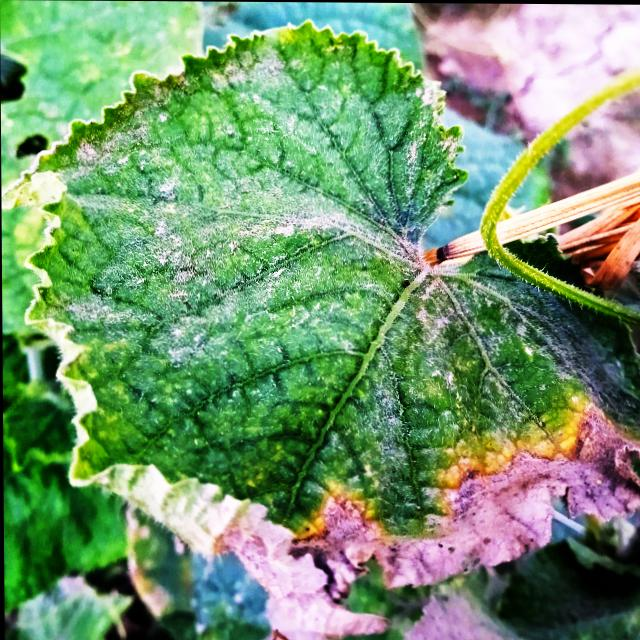Gummy-Stem-Blight: (217, 393, 640, 640)
